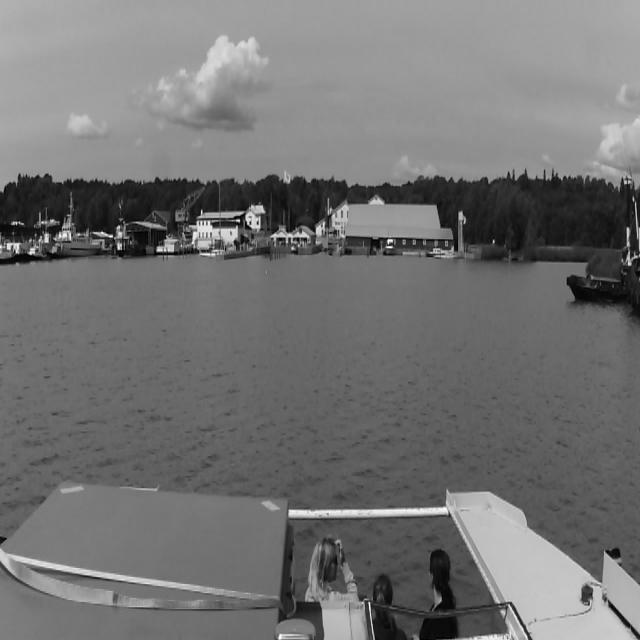buoy: (508, 250, 511, 268), (464, 248, 466, 262)
ship: (200, 182, 222, 260), (426, 244, 446, 257), (385, 238, 395, 256)
